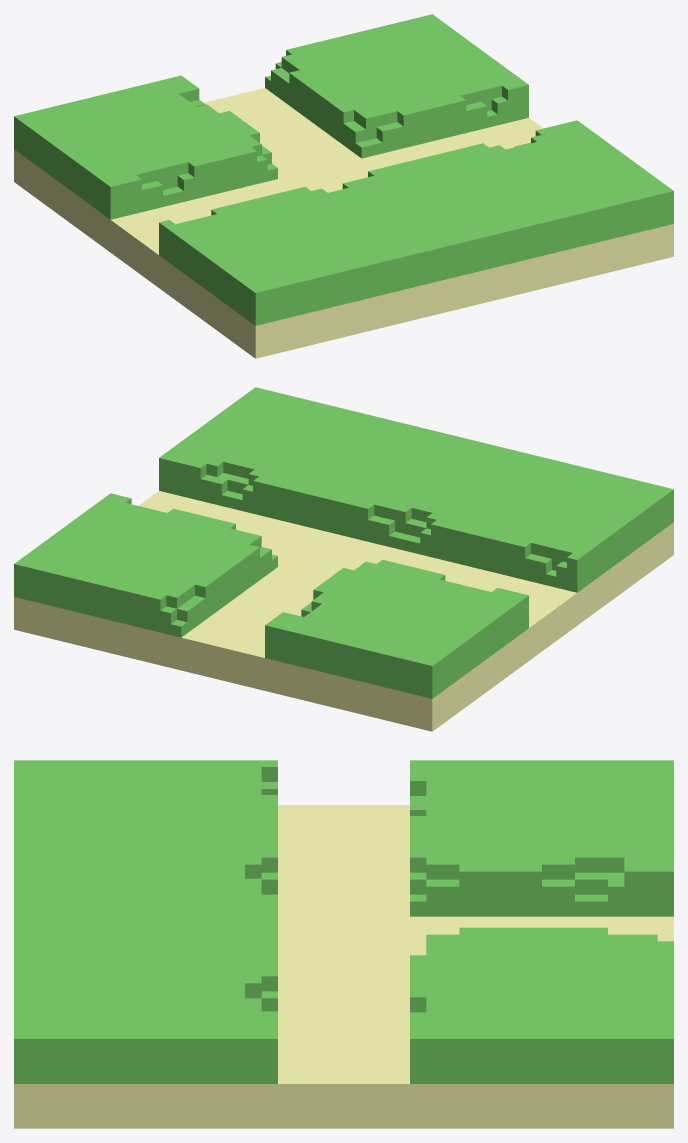
The model's file is Splitting Path Plains Tile 1.obj.
3 renders of one model, top to bottom at view 1: azimuth 30°, elevation 25°; view 2: azimuth 150°, elevation 25°; view 3: azimuth 270°, elevation 25°, orthographic. The views are drawn at different scales.
Bounding box in the file's own units: 8 × 1.2 × 8.
1 material, 1 textured.
